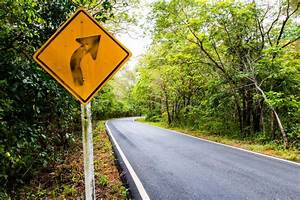right: (33, 9, 132, 106)
